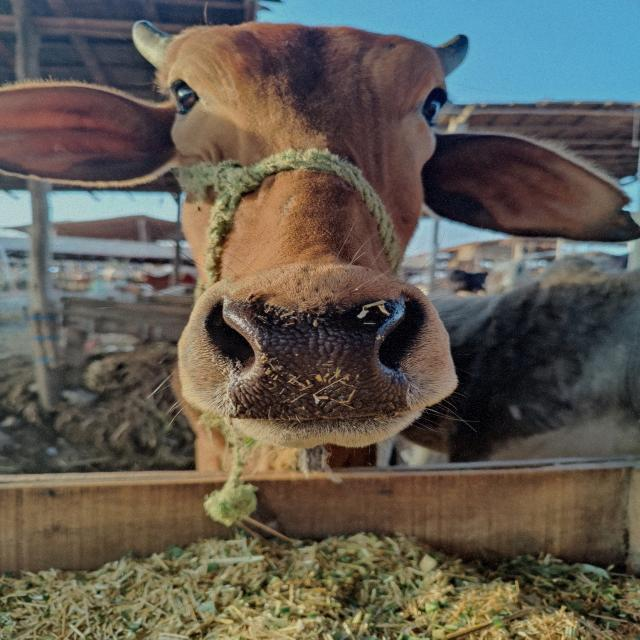muzzles: (204, 289, 418, 426)
